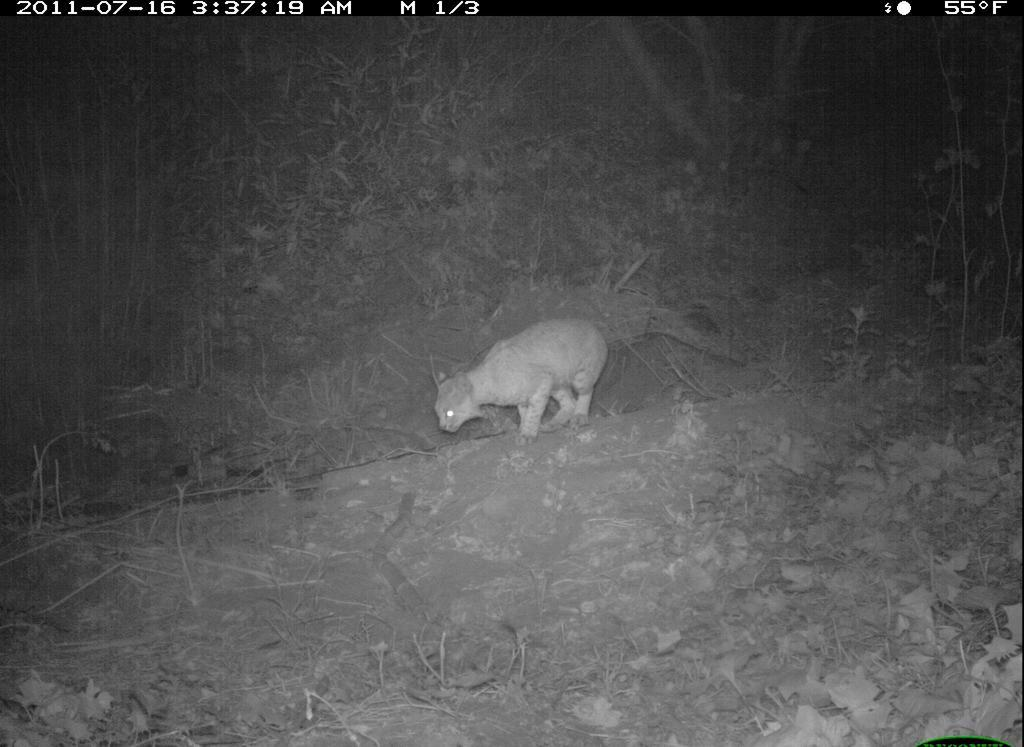bobcat: (427, 309, 621, 449)
